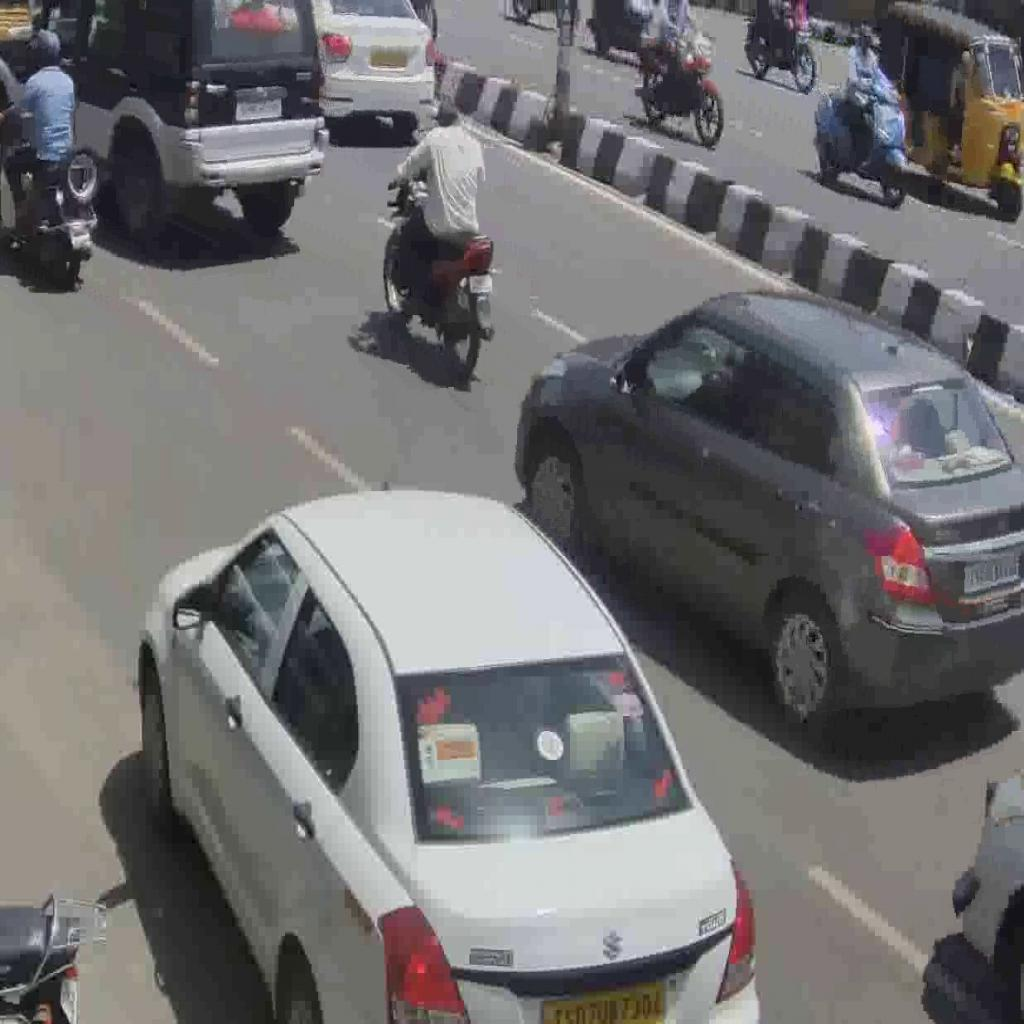bike: (380, 173, 496, 381), (814, 80, 908, 208), (636, 29, 724, 149)
helmet: (23, 26, 61, 70), (854, 23, 881, 60)
lisc: (66, 221, 93, 250), (468, 271, 492, 295)
no_helmet: (430, 98, 462, 134)
noise: (743, 10, 817, 94)
rider: (392, 95, 486, 339), (6, 25, 78, 226), (840, 23, 887, 169)
